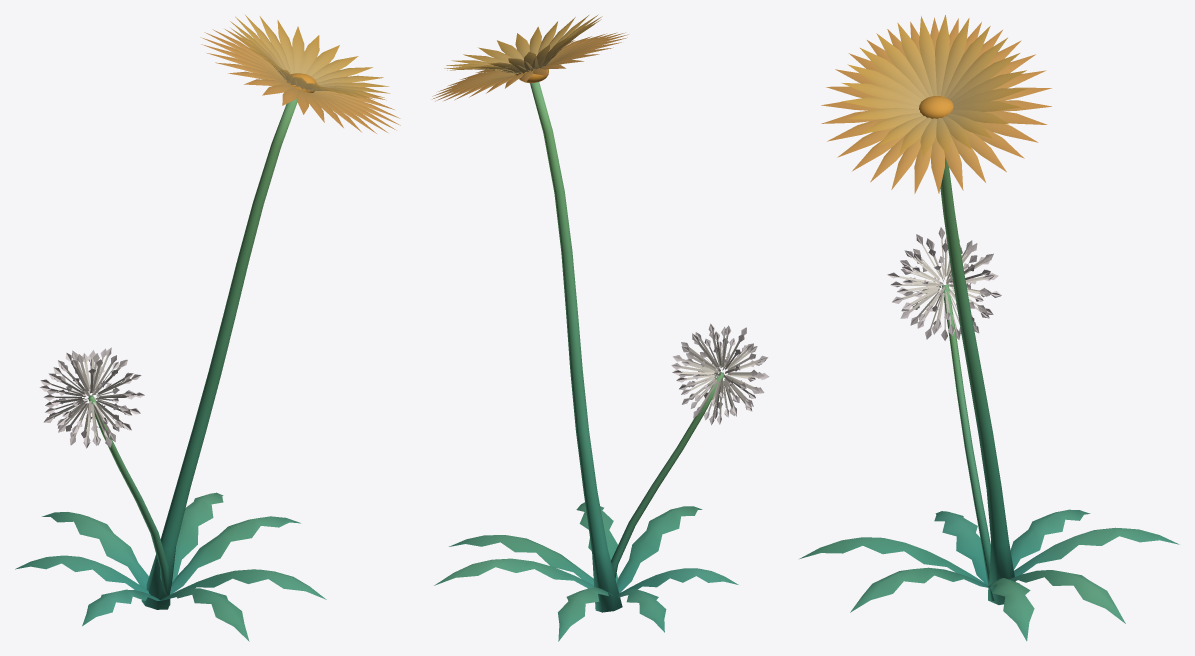
Rendered from verdant_tree_dandelion_c.glb.
3 renders of one model, left to right at view 1: azimuth 30°, elevation 25°; view 2: azimuth 150°, elevation 25°; view 3: azimuth 270°, elevation 25°, orthographic. The views are drawn at different scales.
Visible parts, largest first — view 1: verdant_tree_dandelion_c; view 2: verdant_tree_dandelion_c; view 3: verdant_tree_dandelion_c.
Part boxes in pixels (x1,y1,x2,y2): verdant_tree_dandelion_c: [15, 15, 400, 641]; verdant_tree_dandelion_c: [432, 14, 769, 641]; verdant_tree_dandelion_c: [799, 15, 1179, 641].
Bounding box in the file's own units: 4.26 × 6.97 × 3.94.
